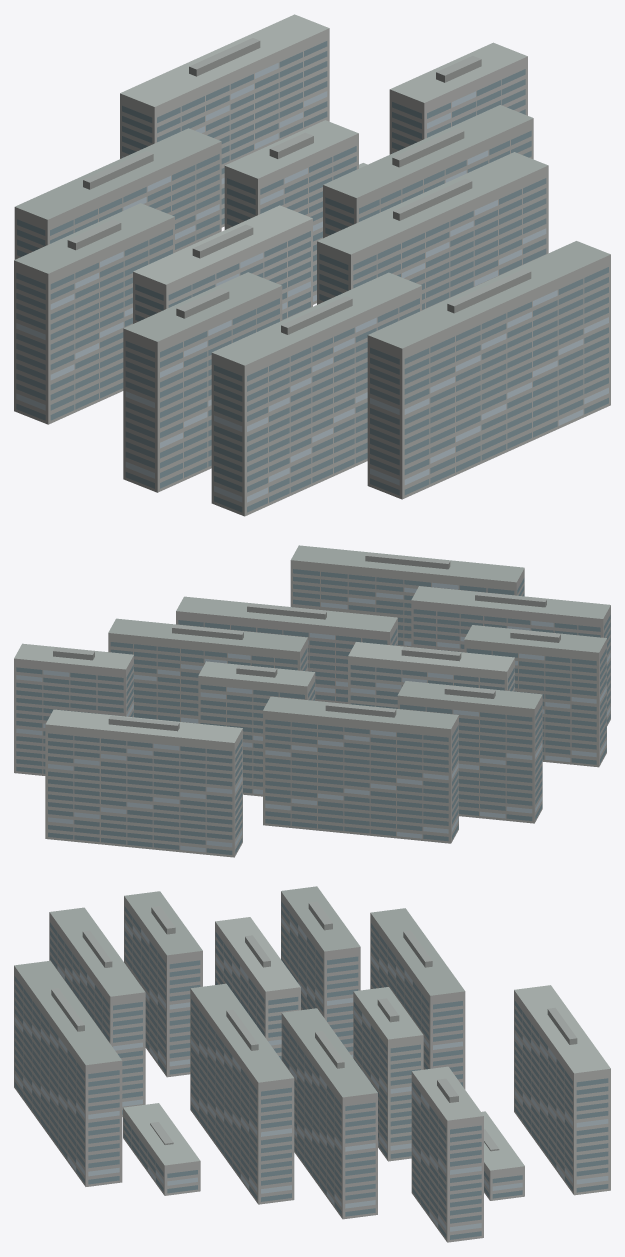
File: apt-a13519008.glb
The picture shows the model from 3 angles, top to bottom: view 1: azimuth 30°, elevation 25°; view 2: azimuth 150°, elevation 25°; view 3: azimuth 270°, elevation 25°; orthographic projection. The views are drawn at different scales.
Parts seen in each view (by area): view 1: apt-a13519008; view 2: apt-a13519008; view 3: apt-a13519008.
Part boxes in pixels (x1=…): apt-a13519008: x1=14, y1=14, x2=610, y2=516; apt-a13519008: x1=14, y1=545, x2=610, y2=857; apt-a13519008: x1=14, y1=886, x2=610, y2=1242.
Bounding box in the file's own units: 173 × 44 × 186.
